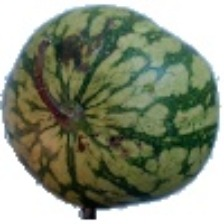watermelon: (21, 48, 189, 201)
